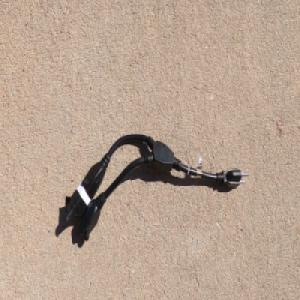Wire: (64, 132, 249, 243)
